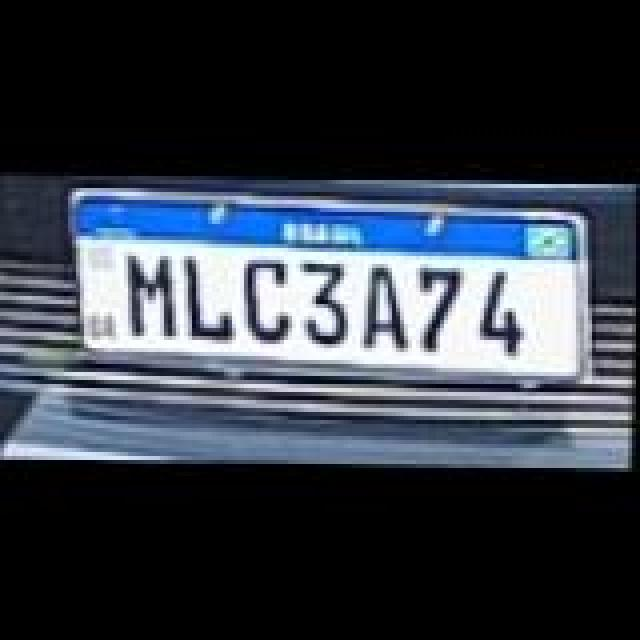3: (304, 258, 352, 342)
4: (480, 266, 528, 350)
7: (416, 264, 464, 348)
A: (364, 264, 412, 348)
C: (244, 258, 292, 342)
L: (186, 252, 238, 336)
M: (128, 252, 184, 336)
